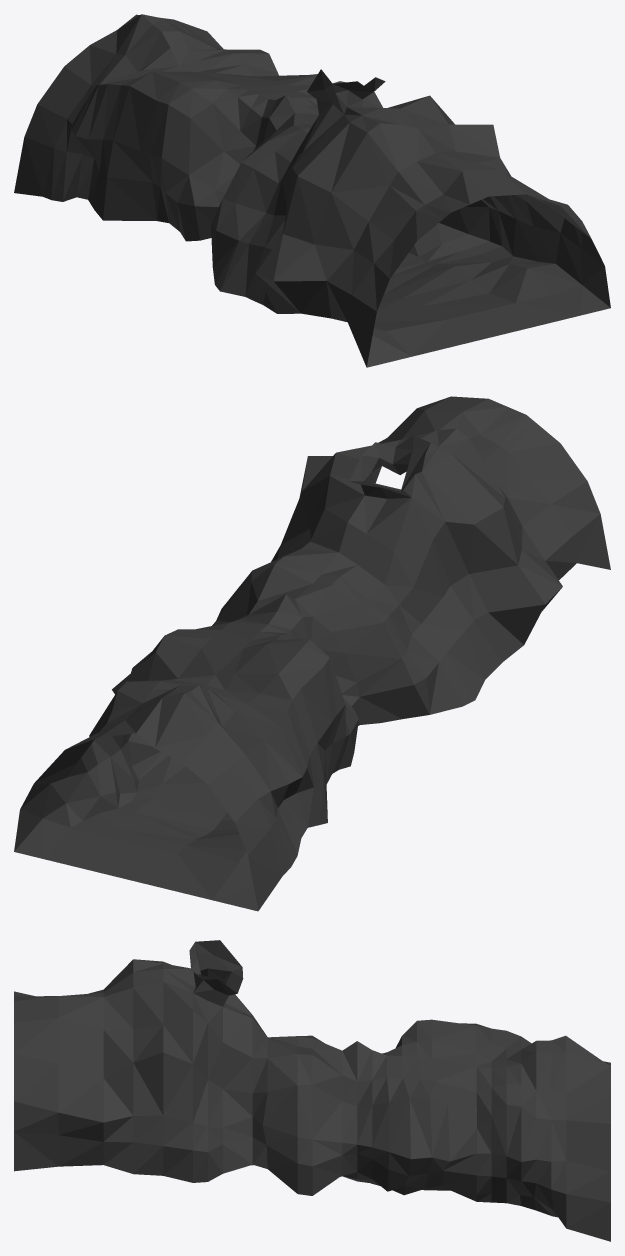
Rendered from Cave_6B_LOD_1.fbx.
The picture shows the model from 3 angles, top to bottom: view 1: azimuth 30°, elevation 25°; view 2: azimuth 150°, elevation 25°; view 3: azimuth 270°, elevation 25°; orthographic projection. The views are drawn at different scales.
Parts seen in each view (by area): view 1: polySurface1223; view 2: polySurface1223; view 3: polySurface1223.
Part boxes in pixels (x1,y1,x2,y2): polySurface1223: [14, 14, 610, 367]; polySurface1223: [14, 396, 610, 911]; polySurface1223: [14, 940, 610, 1241].
Size of the model in its own units: 9.07 by 8.59 by 20.
